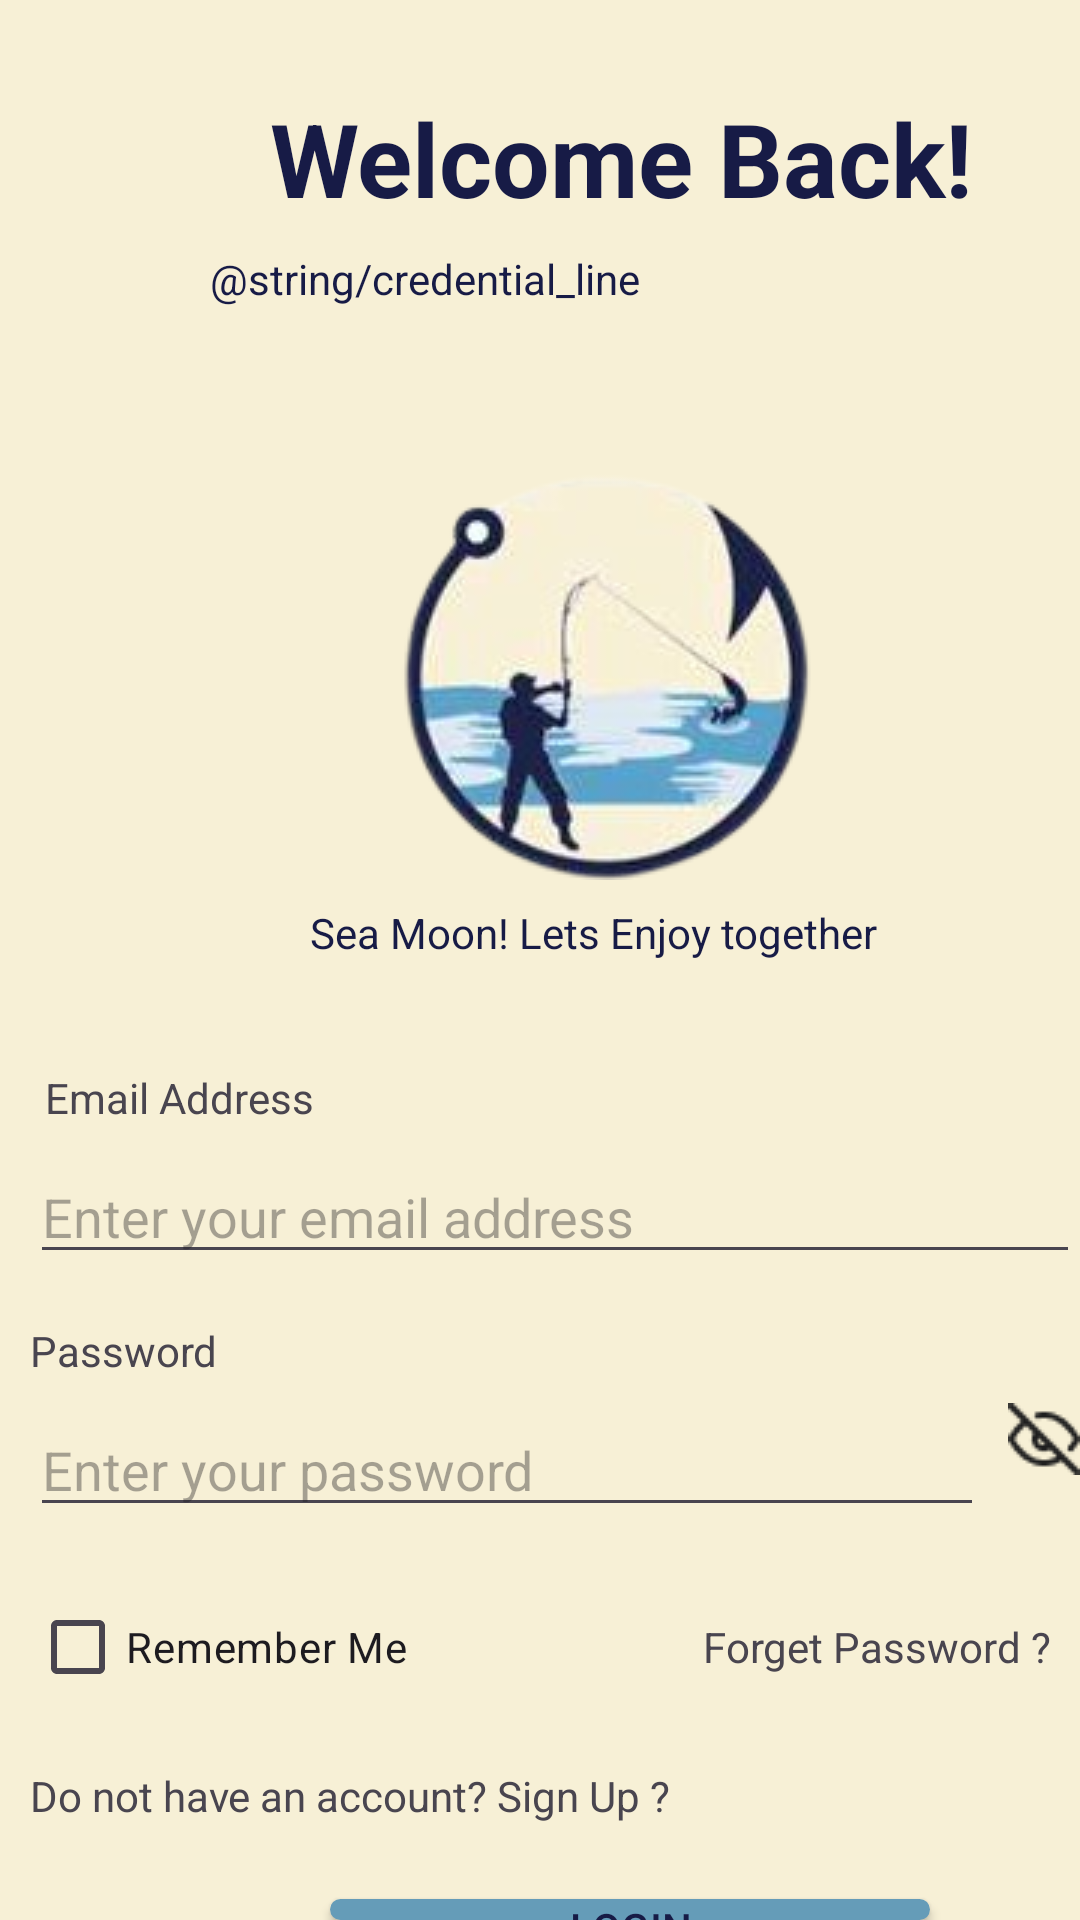

Icon click points for this 1080px x 1920px phone screenshot, format point (x, y):
eyepassword: point (1044, 1439)
